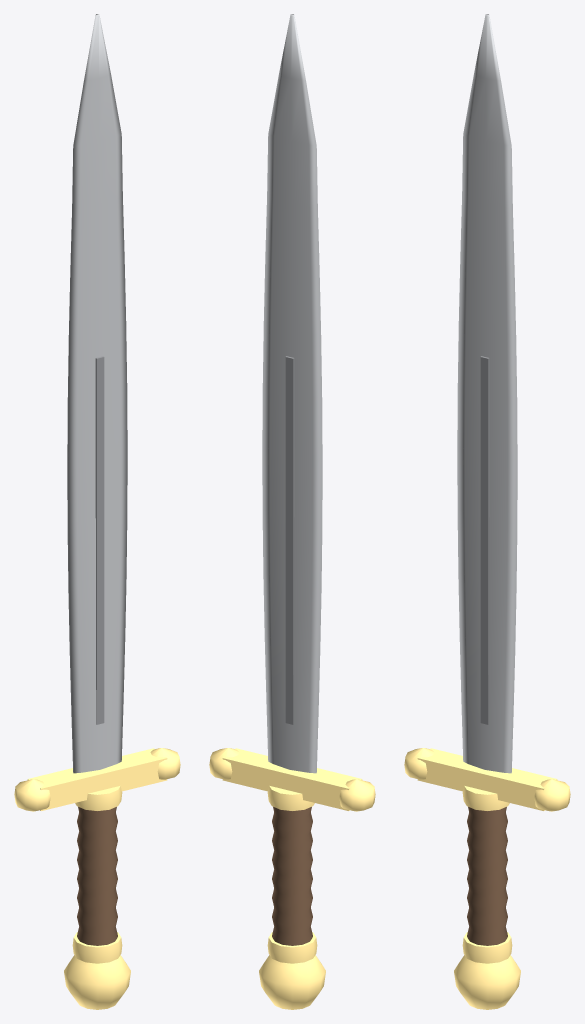
File: sword.glb
3 views of the same model, side by side, from view 1: azimuth 30°, elevation 25°; view 2: azimuth 150°, elevation 25°; view 3: azimuth 330°, elevation 25° (orthographic).
Parts seen in each view (by area): view 1: W-sword; view 2: W-sword; view 3: W-sword.
Boxes of the visible parts, x1,y1,x2,y2 form: W-sword: (14,14,180,1009); W-sword: (209,14,375,1009); W-sword: (404,14,570,1009).
Size of the model in its own units: 0.166 by 0.975 by 0.06.
